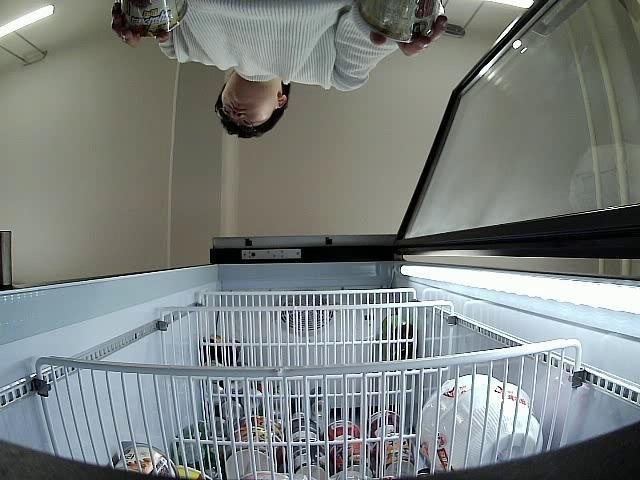04_chapagetti_S: (352, 0, 438, 46), (117, 0, 188, 36)
